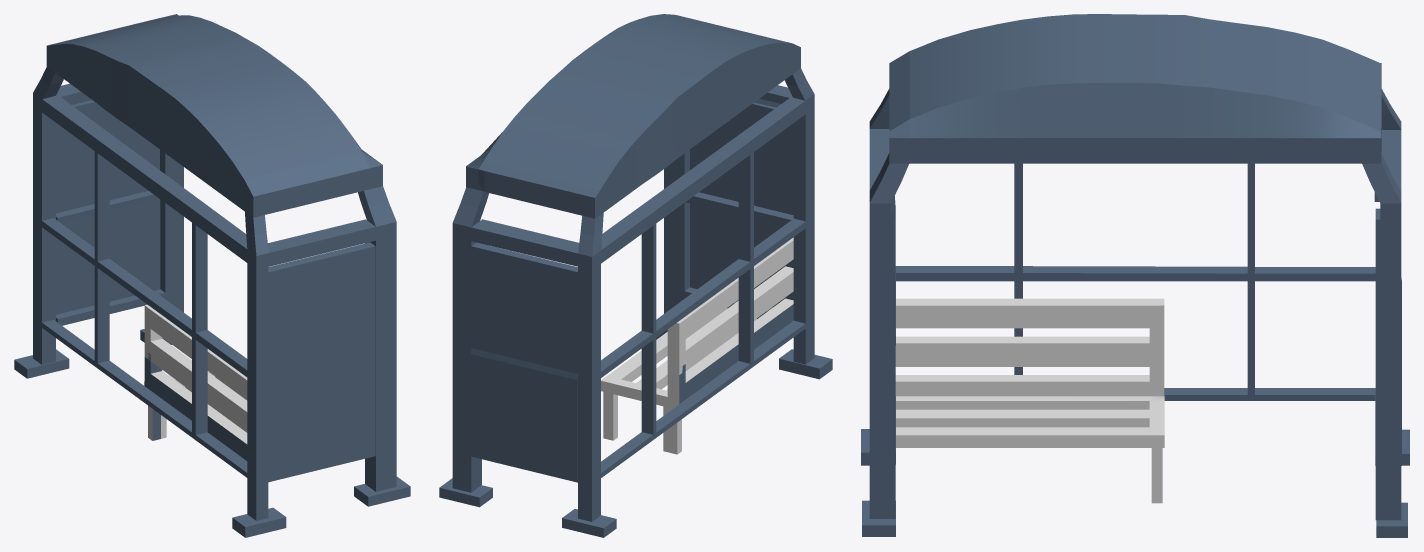
Rendered from BusStop.fbx.
3 renders of one model, left to right at view 1: azimuth 30°, elevation 25°; view 2: azimuth 150°, elevation 25°; view 3: azimuth 270°, elevation 25°, orthographic. The views are drawn at different scales.
Visible parts, largest first — view 1: pCube1; view 2: pCube1; view 3: pCube1.
Boxes of the visible parts, <box> form: pCube1: <box>14,14,410,537</box>; pCube1: <box>439,14,832,537</box>; pCube1: <box>861,14,1409,537</box>.
Bounding box in the file's own units: 1.71 × 3.64 × 4.11.
